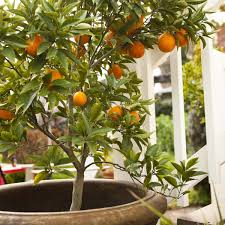orange: (157, 32, 176, 54), (126, 40, 147, 58), (107, 64, 123, 81), (72, 91, 88, 106)
